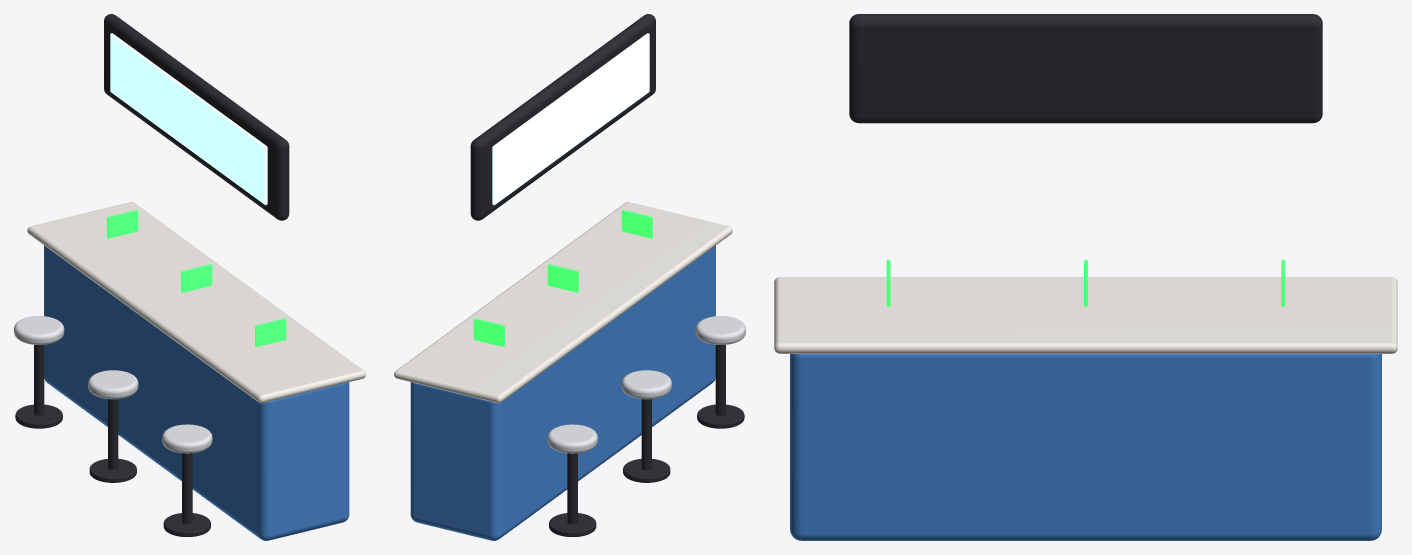
The model's file is apple_store_showroom__genius_repair_bar.glb.
The picture shows the model from 3 angles, left to right: view 1: azimuth 30°, elevation 25°; view 2: azimuth 150°, elevation 25°; view 3: azimuth 270°, elevation 25°; orthographic projection. The views are drawn at different scales.
Visible parts, largest first — view 1: Set, Glow; view 2: Set, Glow; view 3: Set.
Part boxes in pixels (x1,y1,x2,y2): Set: [14, 14, 365, 540]; Glow: [107, 33, 286, 346]; Set: [394, 14, 745, 540]; Glow: [473, 33, 652, 346]; Set: [774, 14, 1397, 540].
Size of the model in its own units: 1.24 by 2.8 by 3.16.
